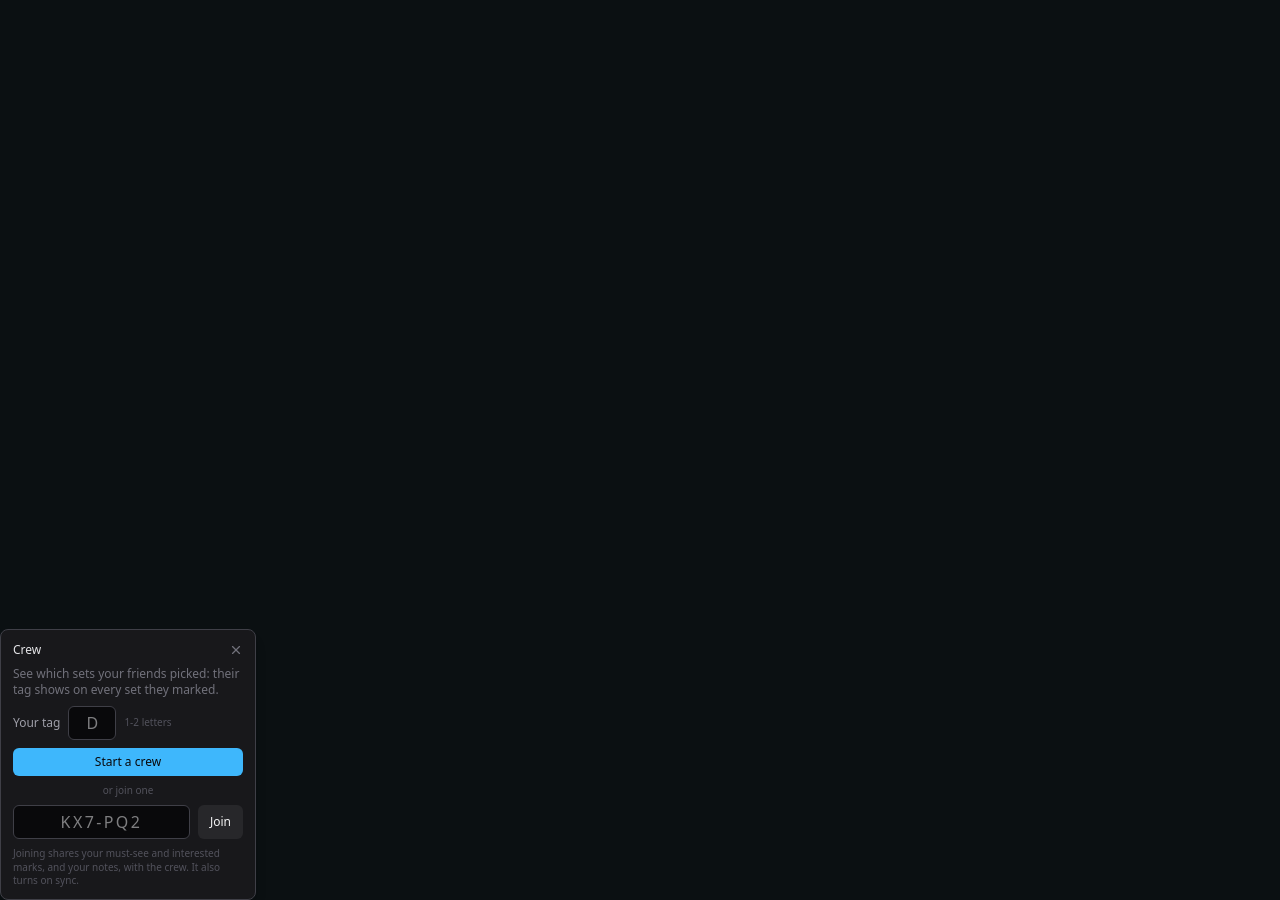
CrewPanel, not in a crew › shows the full error in words
(page scrolled)
Type "Zs" into the field labelled "Your tag" at (92, 723), box [68, 706, 116, 740]
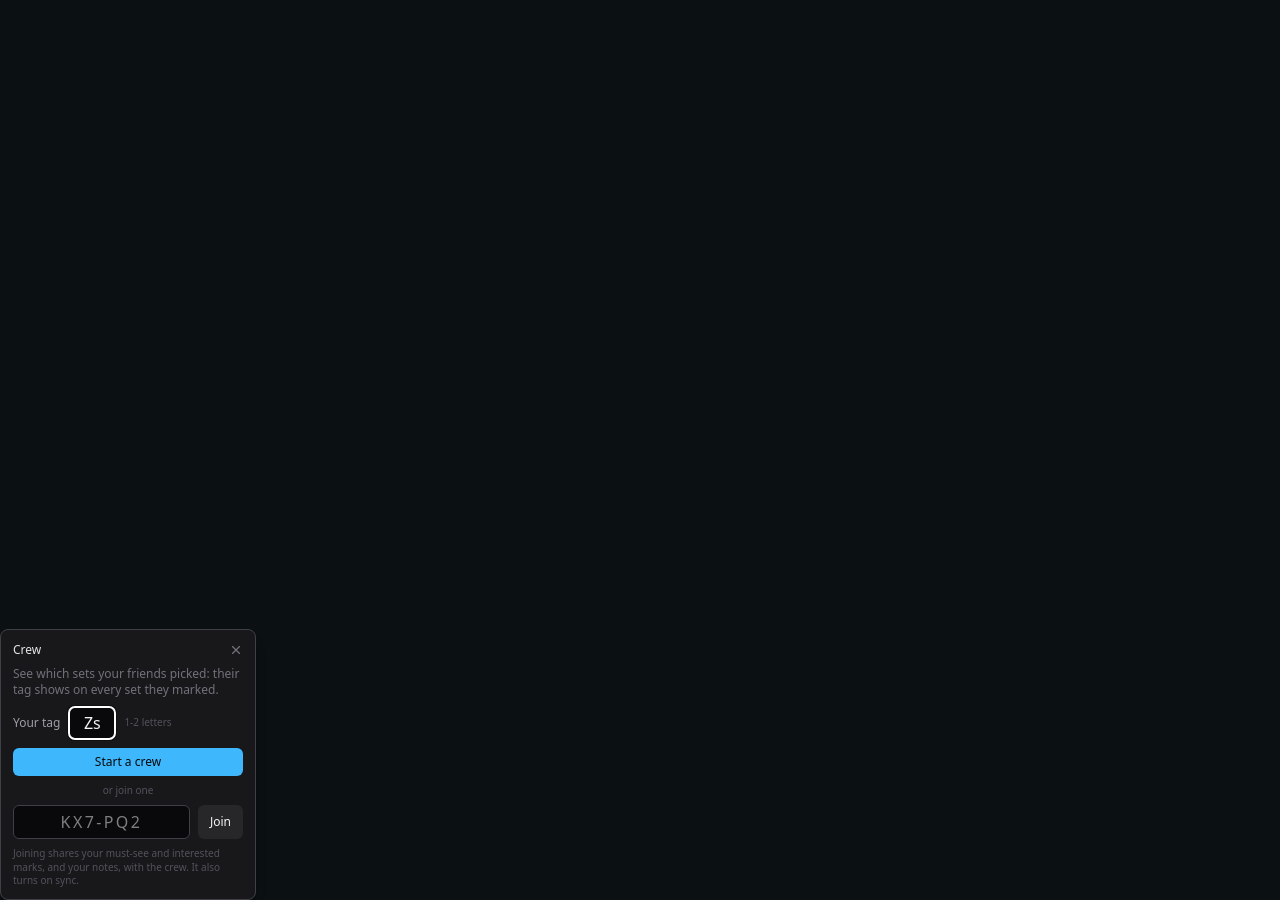
Type "KX7PQ2" into the field named "Crew code" at (101, 822), box [13, 805, 190, 839]
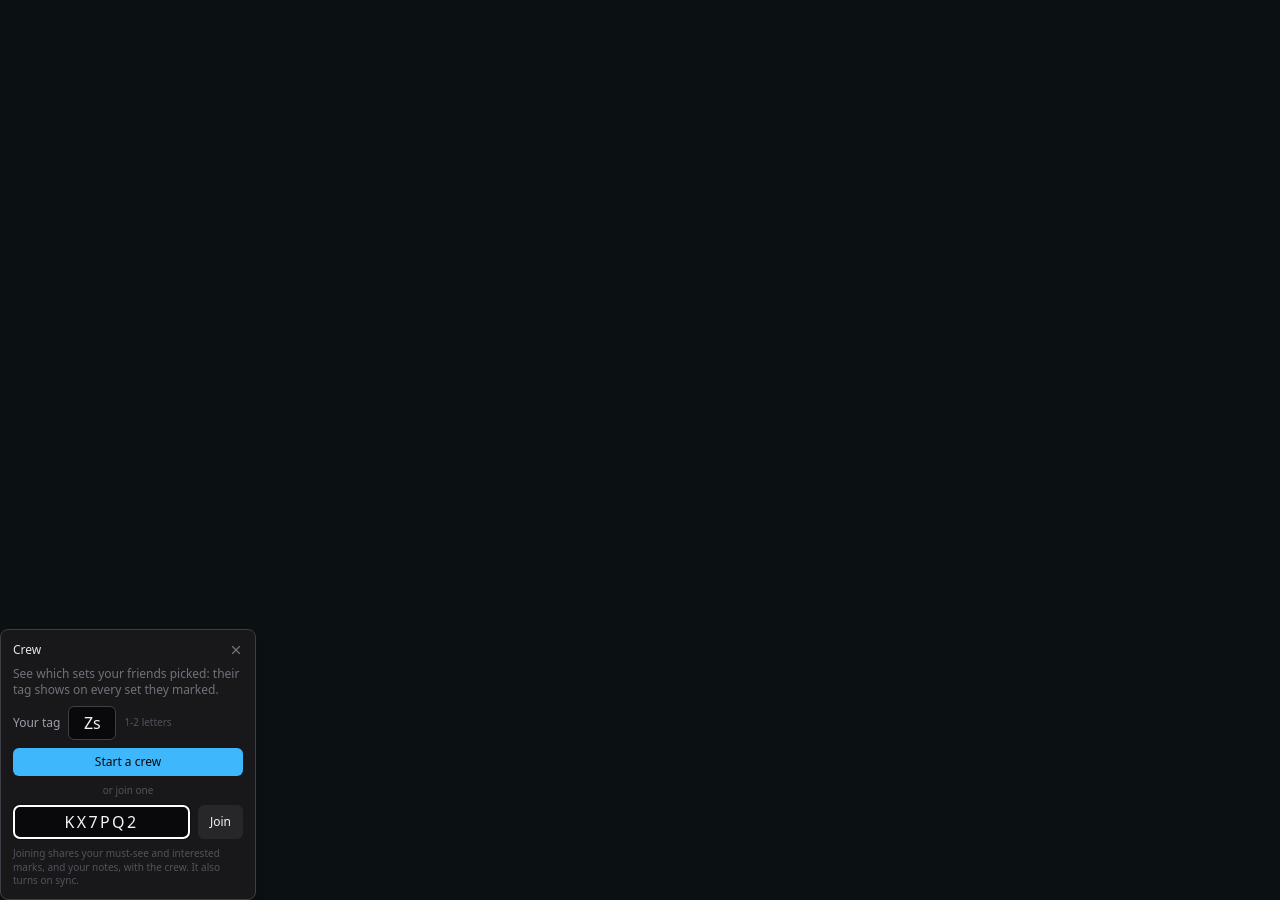
Click the button "Join" at (220, 822), box [198, 805, 243, 839]
(page scrolled)
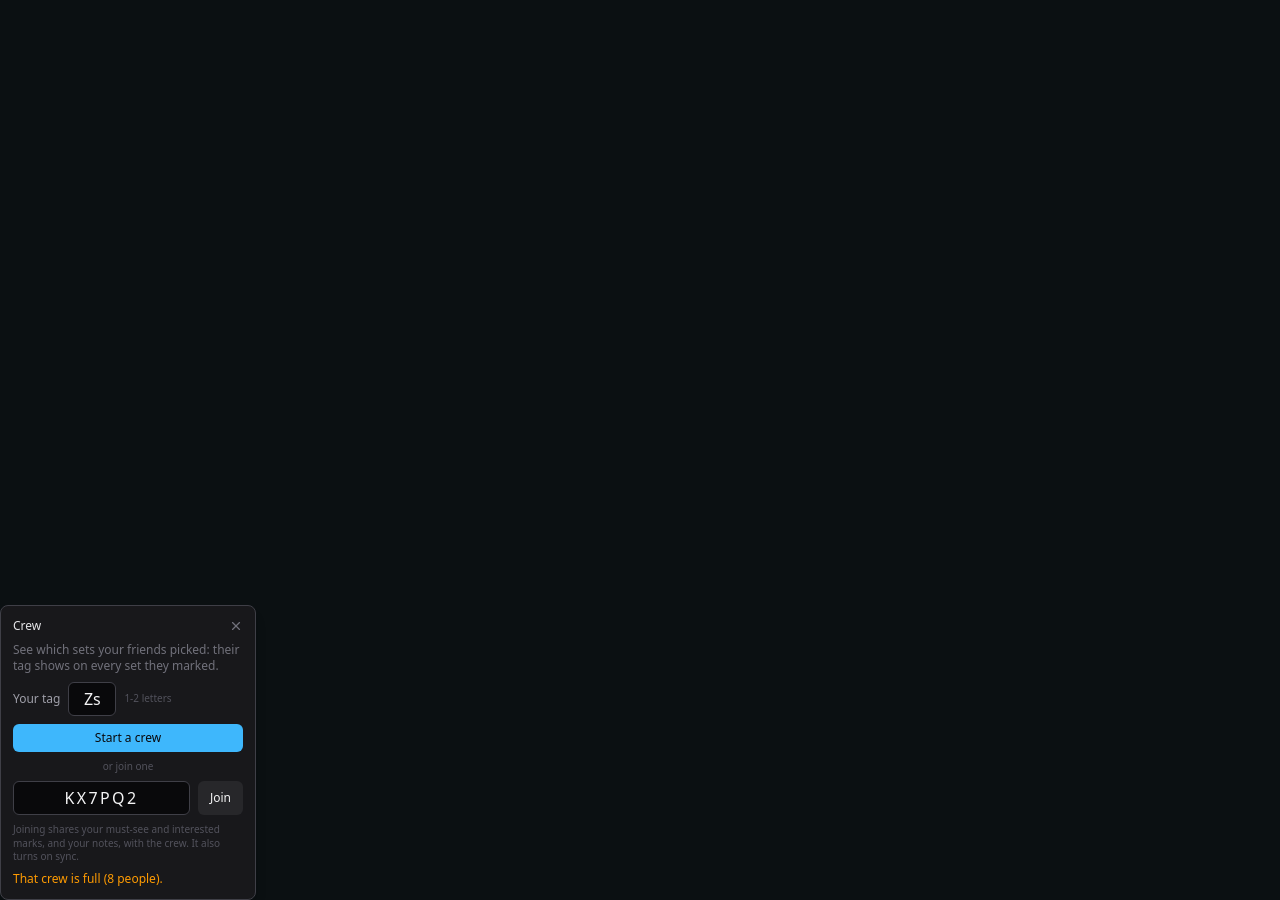
Now the message reads "That crew is full (8 people).", box [13, 870, 163, 887]
